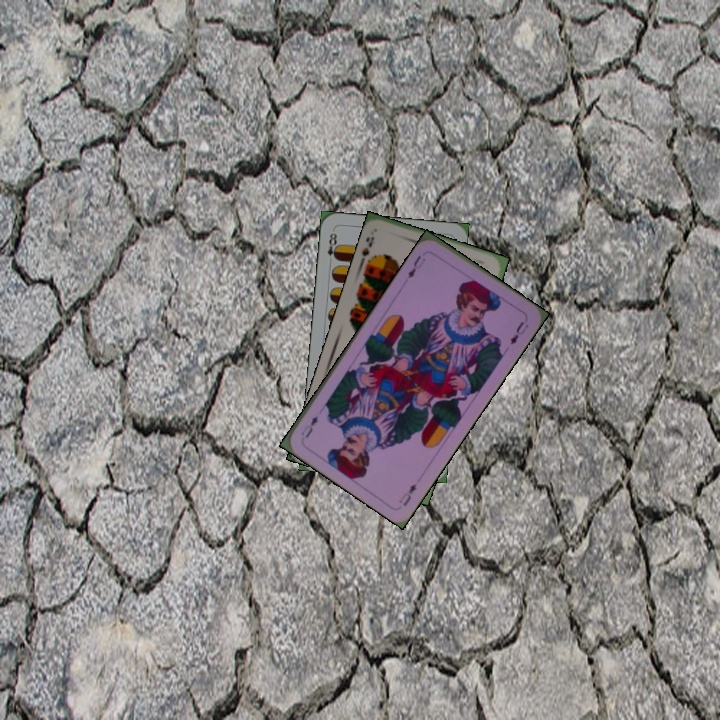E8: (323, 229, 341, 267)
EU: (403, 251, 428, 281), (394, 479, 419, 509)
S9: (356, 232, 378, 269)
